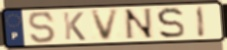I: (196, 5, 207, 39)
K: (61, 11, 87, 42)
N: (123, 7, 156, 41)
S: (27, 10, 58, 45), (156, 6, 187, 40)
V: (89, 8, 122, 43)
